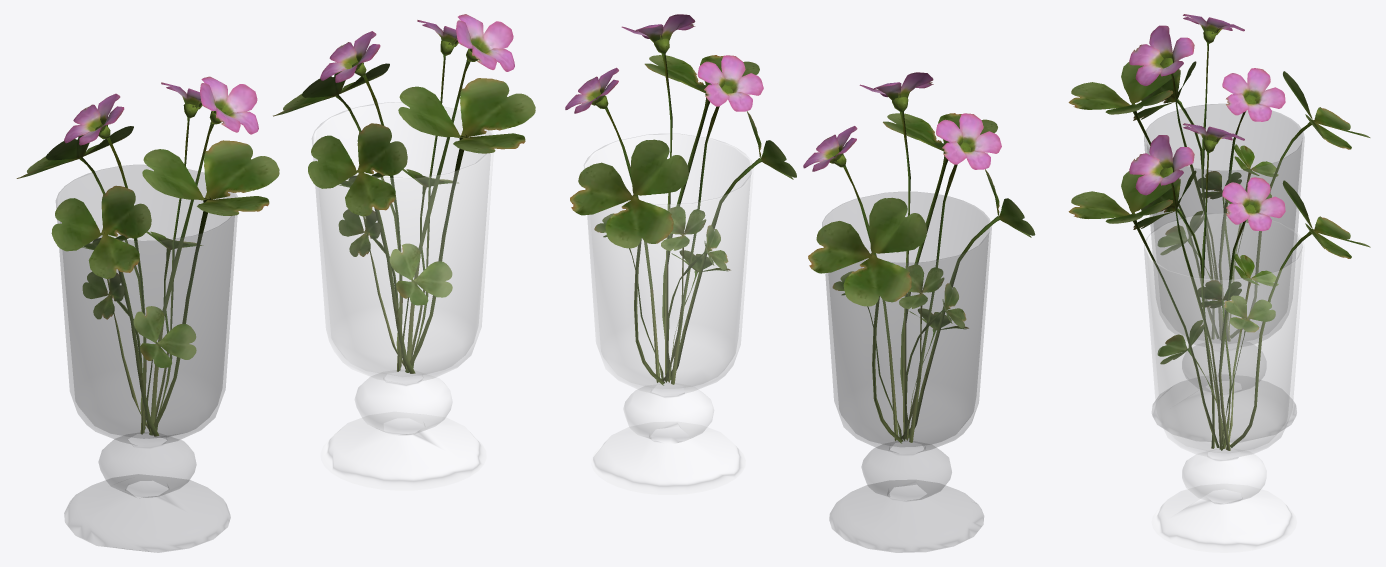
File: glass_vase_flowers.lod1.glb
The picture shows the model from 3 angles, left to right: view 1: azimuth 30°, elevation 25°; view 2: azimuth 150°, elevation 25°; view 3: azimuth 270°, elevation 25°; orthographic projection. The views are drawn at different scales.
Parts seen in each view (by area): view 1: Flowers1, GlassAlpha, GlassTransmission; view 2: Flowers1, GlassAlpha, GlassTransmission; view 3: GlassTransmission, Flowers1, GlassAlpha.
Part boxes in pixels (x1=…): Flowers1: x1=16, y1=14, x2=535, y2=436; GlassAlpha: x1=56, y1=165, x2=237, y2=552; GlassTransmission: x1=312, y1=102, x2=493, y2=490; Flowers1: x1=565, y1=14, x2=1035, y2=443; GlassAlpha: x1=822, y1=192, x2=991, y2=552; GlassTransmission: x1=584, y1=134, x2=753, y2=494; GlassTransmission: x1=1144, y1=213, x2=1304, y2=552; Flowers1: x1=1068, y1=14, x2=1370, y2=450; GlassAlpha: x1=1144, y1=104, x2=1304, y2=442.
Size of the model in its own units: 0.2173 by 0.2032 by 0.1425.
3 materials, 1 textured.
